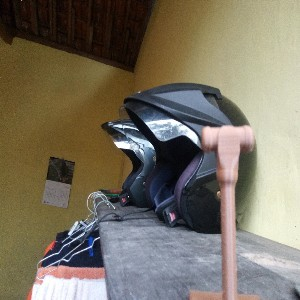palu: (201, 123, 254, 300)
